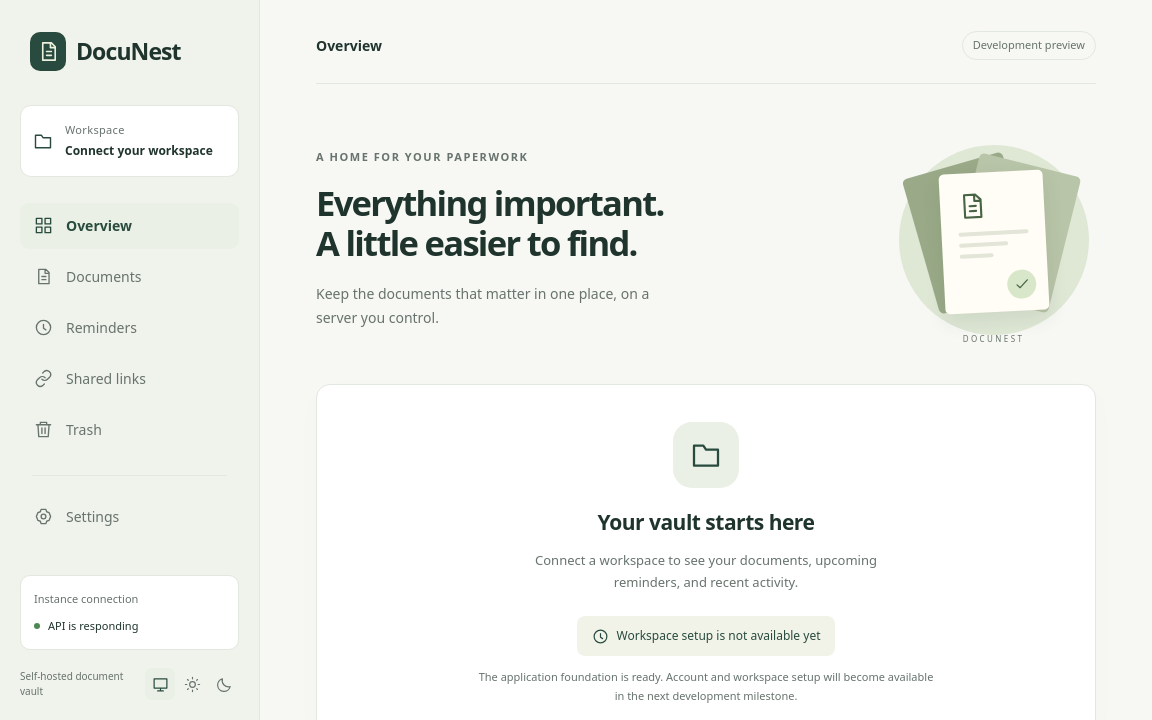
it: application foundation › navigates to a transparent feature state and returns to overview
The image size is (1152, 720).
What coordinates should you click on to do the following:
click the link "Documents"
I would click on:
 (88, 276)
Its box is x1=34 y1=267 x2=142 y2=286.
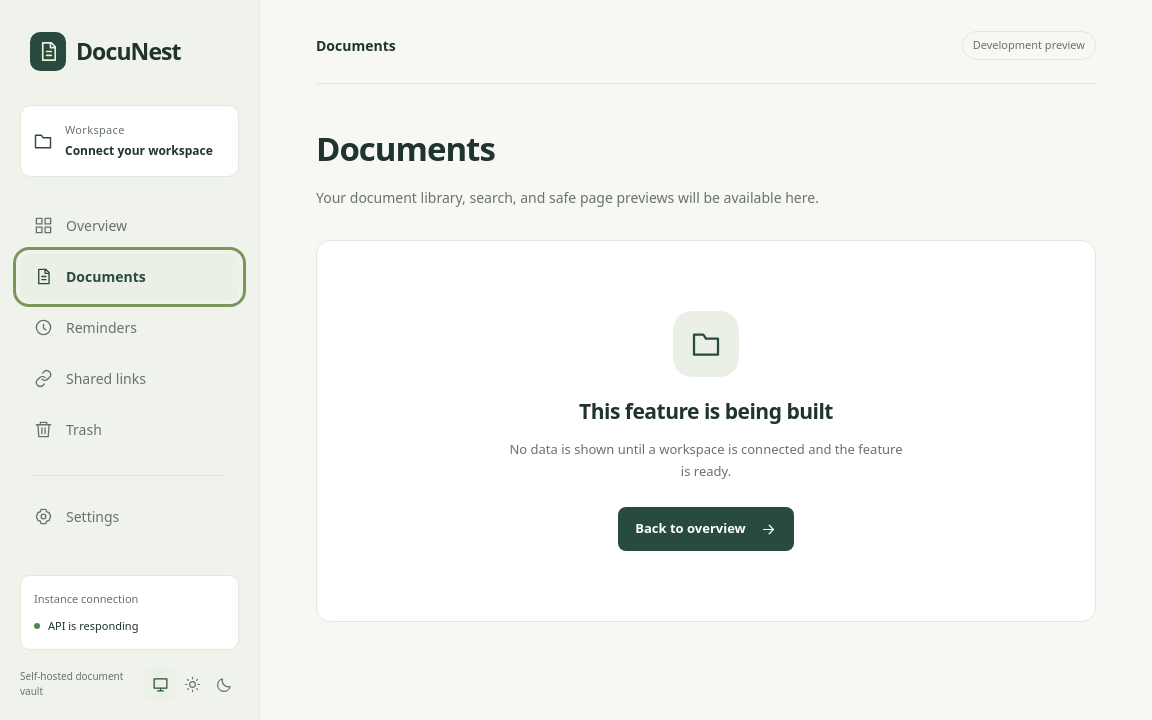
expect the heading "Documents" is shown: met, box x1=316 y1=126 x2=495 y2=170
expect the heading "This feature is being built" is shown: met, box x1=579 y1=396 x2=833 y2=427
What coordinates should you click on to do the following:
click the link "Back to overview"
I would click on:
 (706, 529)
Its box is x1=618 y1=508 x2=794 y2=551.
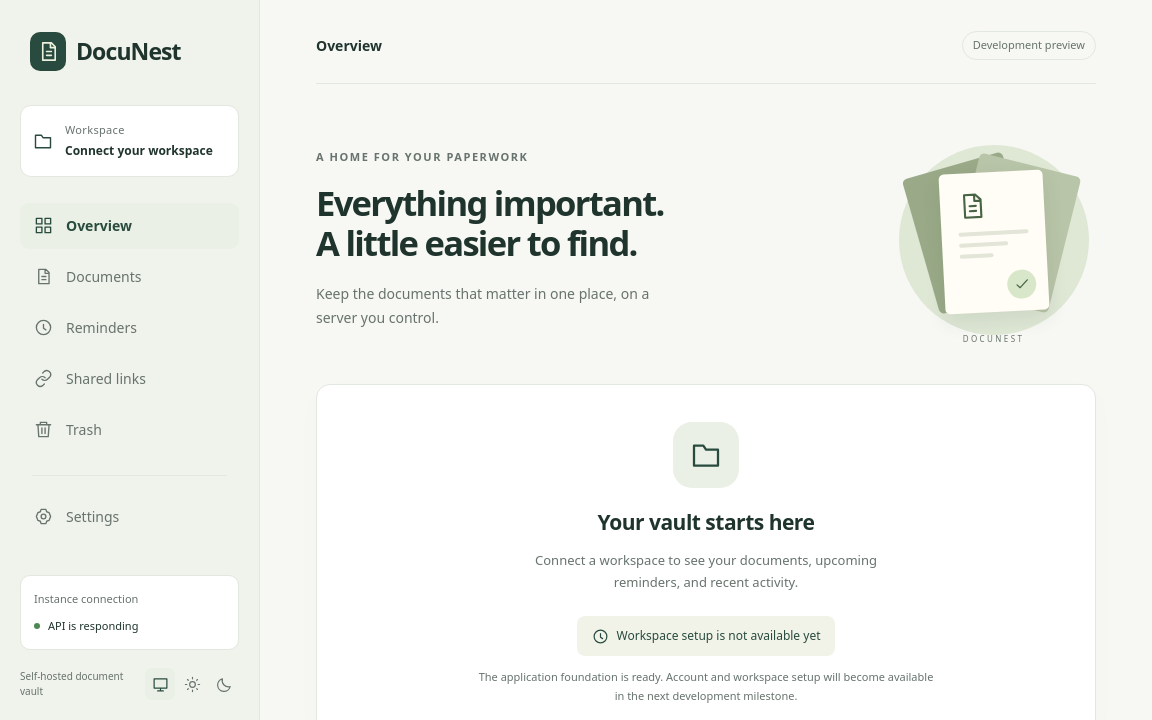
expect the heading "Your vault starts here" is shown: met, box x1=598 y1=506 x2=814 y2=538
